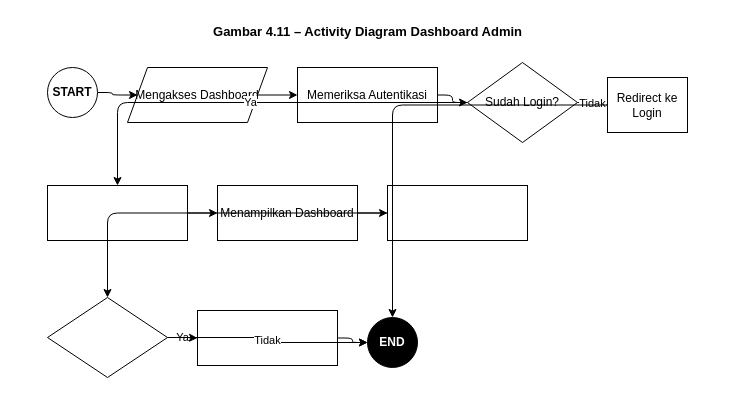
This 734x395 diagram has some shape labels left out. The shapes that lost their labels are listed below. From the top down, each one's box as (x1, y1, x2, y2) in pixels, then its label:
(46, 184, 188, 240): Memuat Statistik, Grafik, dan Alert
(386, 184, 528, 240): Melihat Statistik dan Grafik
(46, 296, 168, 378): Klik Pesanan Terbaru?
(196, 310, 338, 366): Ke Detail Pesanan
